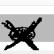not correct: (0, 16, 46, 50)
